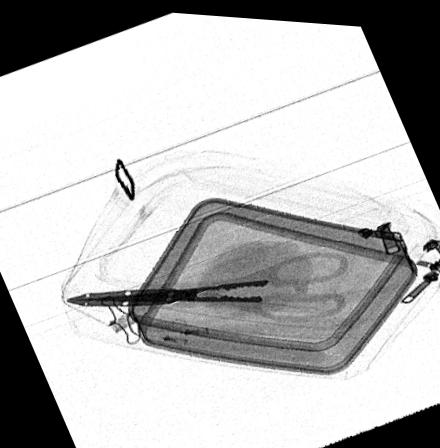Scissors: (65, 246, 352, 319)
